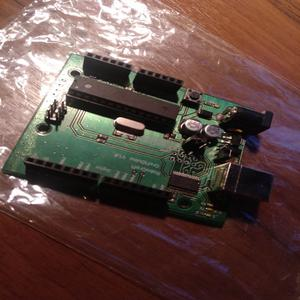duino: (7, 41, 273, 230)
